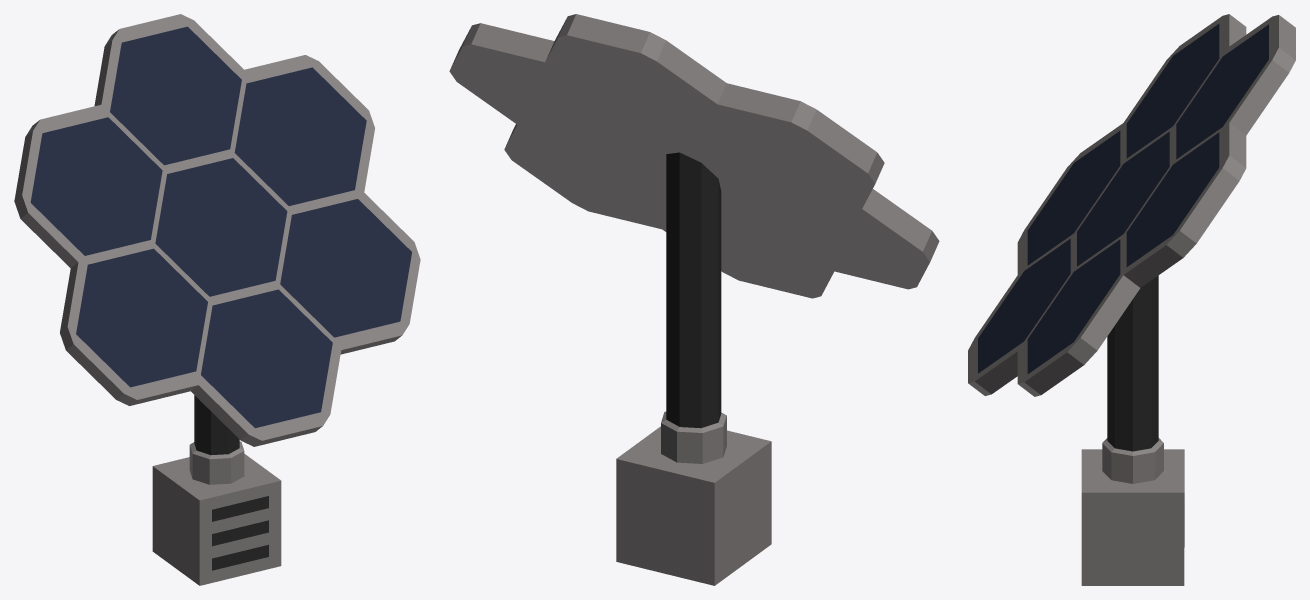
Rendered from scifi_scifi-solar-panel-hexagon.fbx.
3 views of the same model, side by side, from view 1: azimuth 30°, elevation 25°; view 2: azimuth 150°, elevation 25°; view 3: azimuth 270°, elevation 25° (orthographic). The views are drawn at different scales.
Parts seen in each view (by area): view 1: scifi_scifi_solar_panel_hexagon; view 2: scifi_scifi_solar_panel_hexagon; view 3: scifi_scifi_solar_panel_hexagon.
Part boxes in pixels (x1=…): scifi_scifi_solar_panel_hexagon: x1=14, y1=14, x2=420, y2=585; scifi_scifi_solar_panel_hexagon: x1=449, y1=14, x2=939, y2=585; scifi_scifi_solar_panel_hexagon: x1=968, y1=14, x2=1295, y2=585.
Size of the model in its own units: 149 by 200 by 112.
